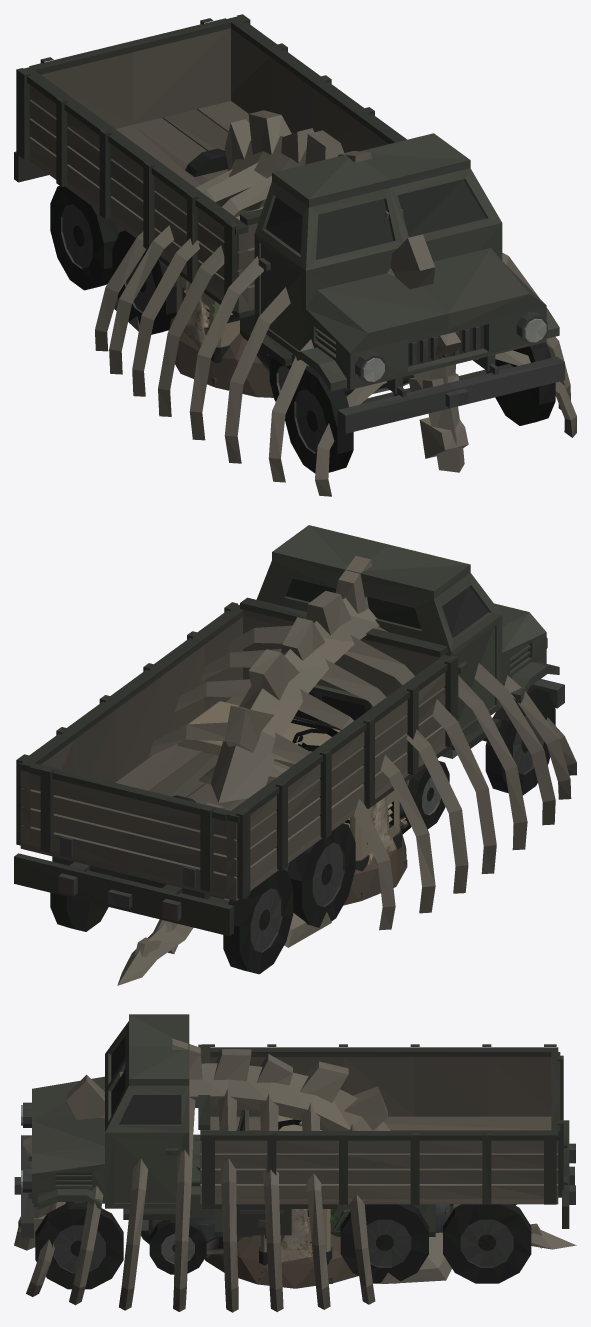
Rendered from props.glb.
3 renders of one model, top to bottom at view 1: azimuth 30°, elevation 25°; view 2: azimuth 150°, elevation 25°; view 3: azimuth 270°, elevation 25°, orthographic. The views are drawn at different scales.
Visible parts, largest first — view 1: prop~truck@0, prop~truck@1, prop~ribcage@0, prop~nest@1, prop~jeep@0, prop~generator@0, prop~barrier@0; view 2: prop~truck@1, prop~truck@0, prop~ribcage@0, prop~generator@0, prop~jeep@0, prop~nest@1, prop~barrier@0; view 3: prop~truck@0, prop~truck@1, prop~ribcage@0, prop~jeep@0, prop~nest@1, prop~coveredcar@0, prop~barrier@0, prop~generator@0.
Part boxes in pixels (x1,y1,x2,y2): prop~truck@0: (14,14,564,473); prop~truck@1: (14,16,564,472); prop~ribcage@0: (95,110,576,496); prop~nest@1: (169,316,273,397); prop~jeep@0: (168,148,308,401); prop~generator@0: (176,216,239,387); prop~barrier@0: (184,280,208,347); prop~truck@1: (14,525,564,973); prop~truck@0: (14,552,564,974); prop~ribcage@0: (117,556,576,985); prop~generator@0: (177,701,407,898); prop~jeep@0: (173,684,457,871); prop~nest@1: (343,827,406,905); prop~barrier@0: (367,796,396,864); prop~truck@0: (14,1021,575,1289); prop~truck@1: (21,1014,575,1273); prop~ribcage@0: (14,1038,576,1312); prop~jeep@0: (141,1110,453,1274); prop~nest@1: (204,1238,357,1288); prop~coveredcar@0: (141,1204,453,1257); prop~barrier@0: (260,1209,312,1272); prop~generator@0: (258,1115,332,1283).
Size of the model in its own units: 4.4 by 3.08 by 7.7.
5 materials, 4 textured.
